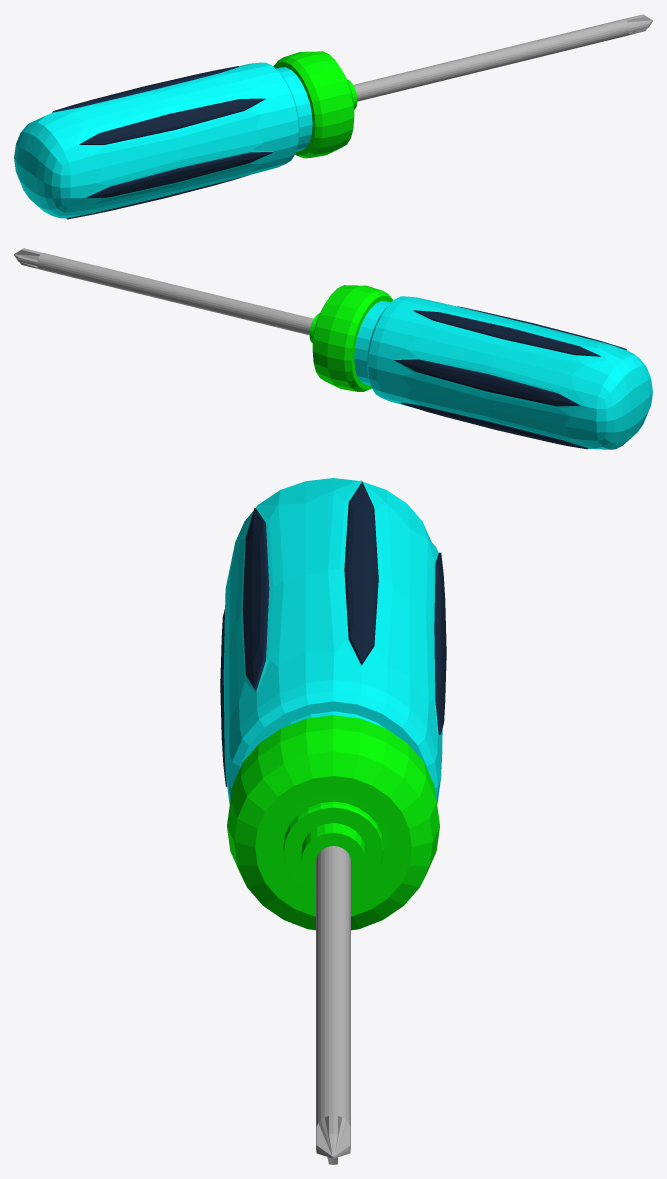
The model's file is LSD.FBX.
The picture shows the model from 3 angles, top to bottom: view 1: azimuth 30°, elevation 25°; view 2: azimuth 150°, elevation 25°; view 3: azimuth 270°, elevation 25°; orthographic projection. The views are drawn at different scales.
Visible parts, largest first — view 1: Cylinder001; view 2: Cylinder001; view 3: Cylinder001.
Boxes of the visible parts, x1,y1,x2,y2 form: Cylinder001: [14, 14, 652, 219]; Cylinder001: [14, 248, 652, 449]; Cylinder001: [220, 478, 446, 1164].
Size of the model in its own units: 264 by 41.69 by 41.52.
